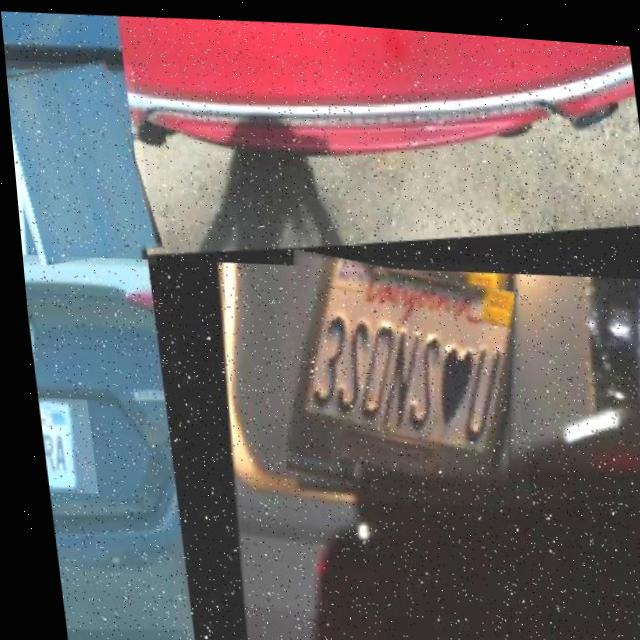LicensePlate: (262, 244, 524, 508), (4, 55, 151, 267), (30, 395, 89, 494)
